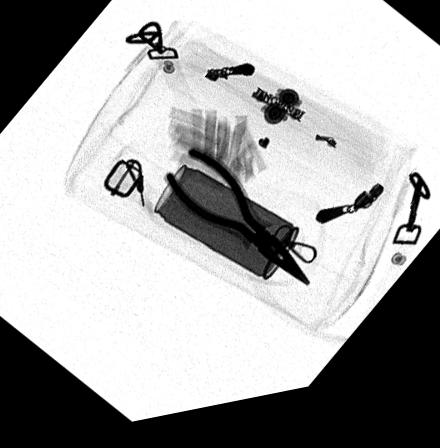Pliers: (161, 152, 313, 299)
